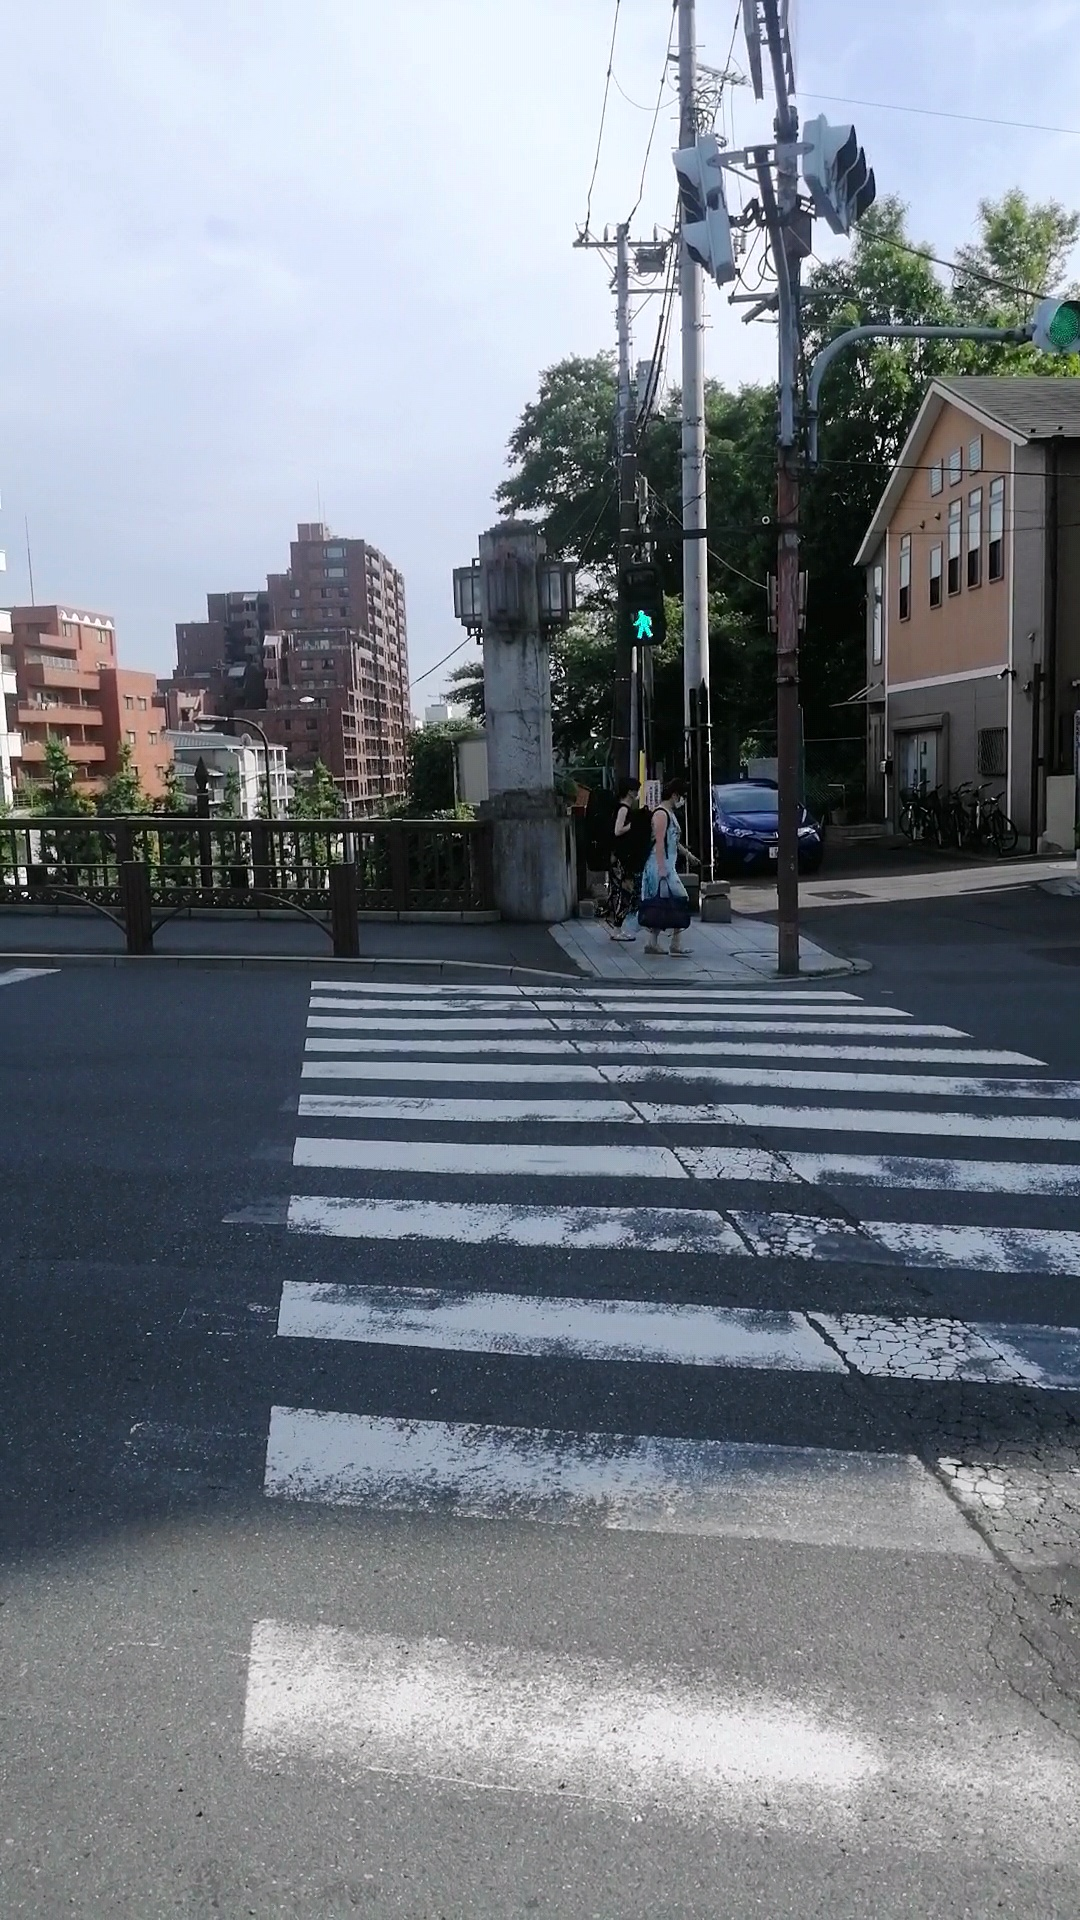green: (618, 562, 665, 646)
